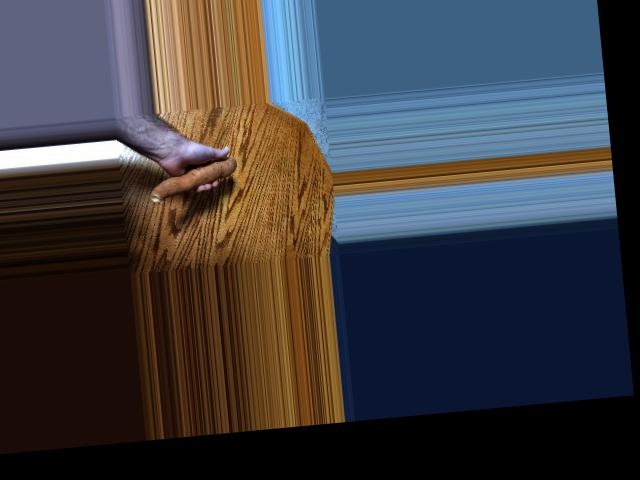sweet_potato: (147, 157, 239, 189)
